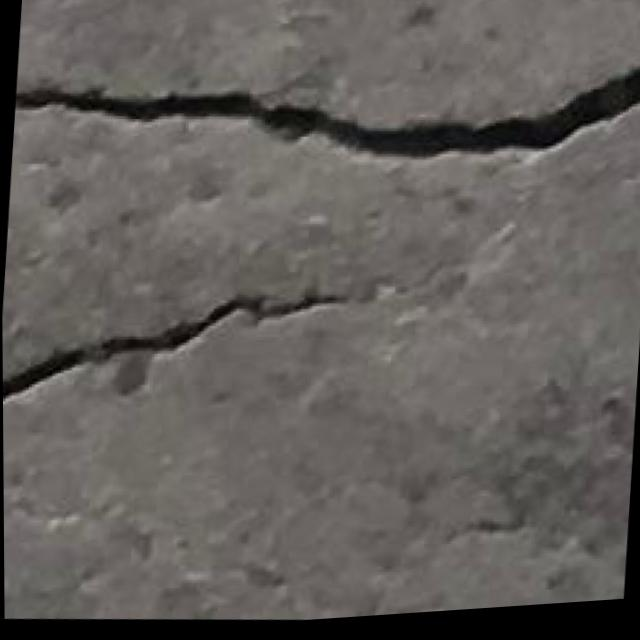Crack: (9, 15, 640, 217), (2, 258, 359, 453)
